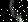person: (8, 1, 26, 22)
